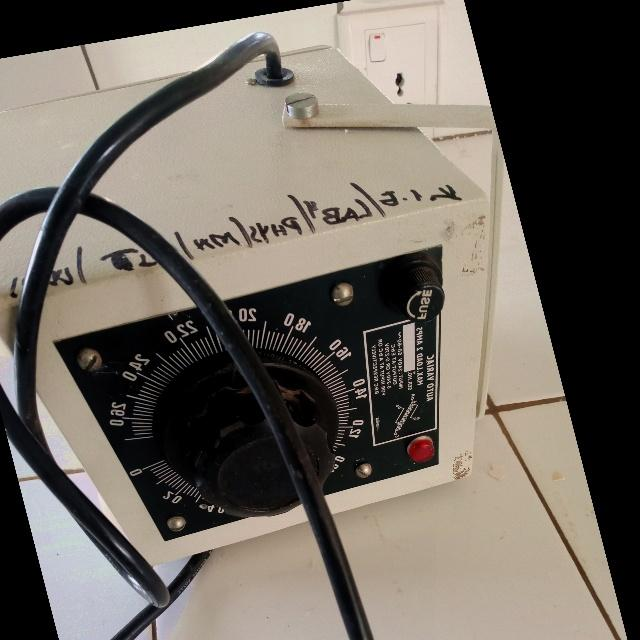Auto Variac AC Transformer 0-280 V: (0, 0, 564, 612)
